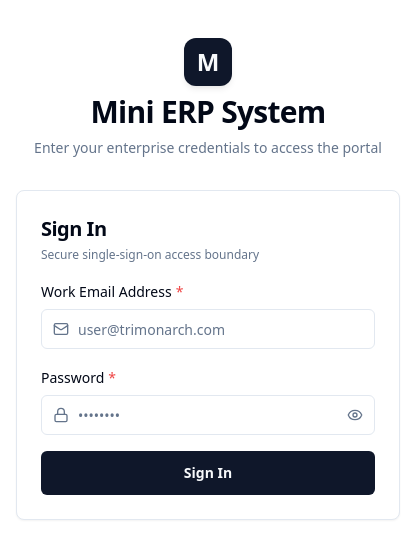
Scenario: LoginPage UI & Validation › displays field validation errors when submitting empty form
This screenshot has width=417, height=559.
Click the button "Sign In": (208, 473) [41,451,375,495]
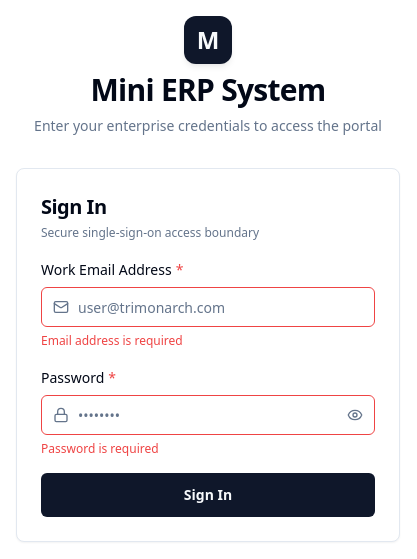
Expected: the text "Email address is required" is shown, [41,332,183,349]
Expected: the text "Password is required" is shown, [41,440,159,457]
